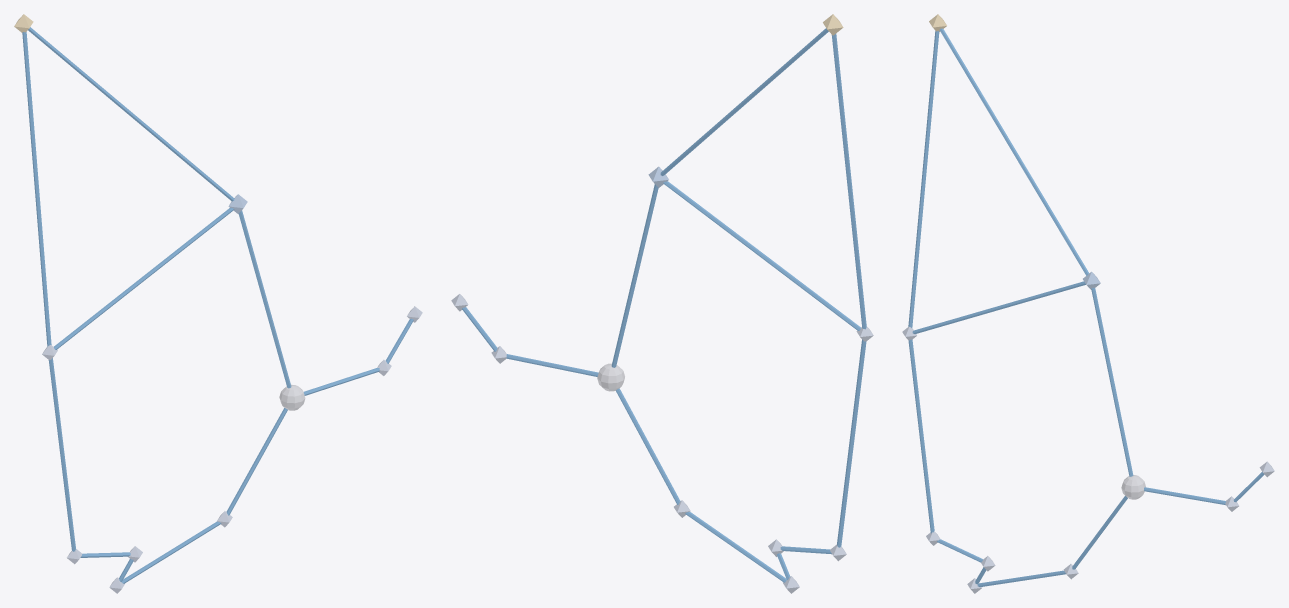
Rendered from constellation-cep.glb.
The picture shows the model from 3 angles, left to right: view 1: azimuth 30°, elevation 25°; view 2: azimuth 150°, elevation 25°; view 3: azimuth 330°, elevation 25°; orthographic projection. The views are drawn at different scales.
Size of the model in its own units: 1.63 by 2.32 by 0.3128.
